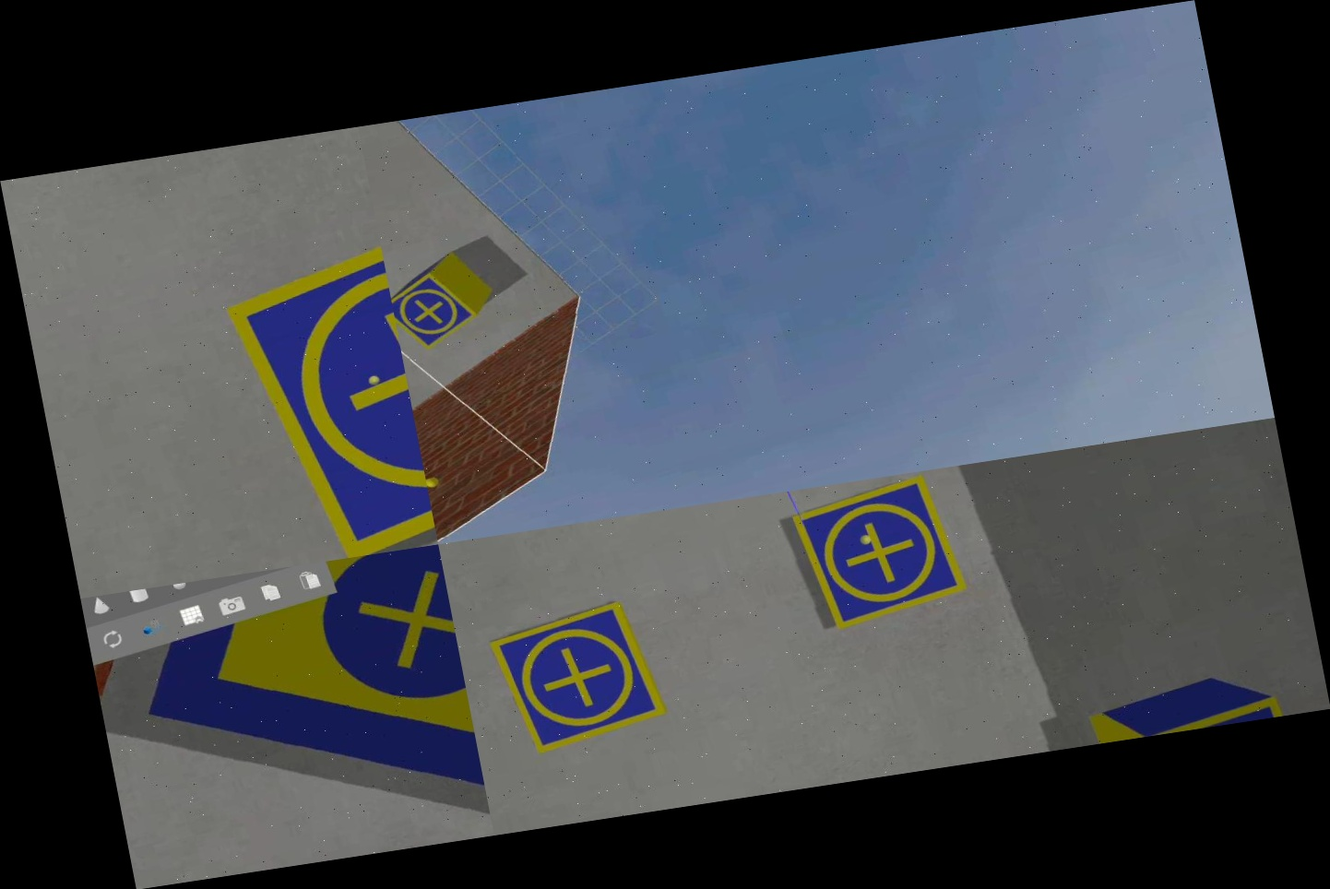large_base: (103, 544, 494, 885)
small_base: (207, 211, 438, 570), (483, 595, 674, 761), (787, 470, 975, 637), (386, 262, 486, 356)
